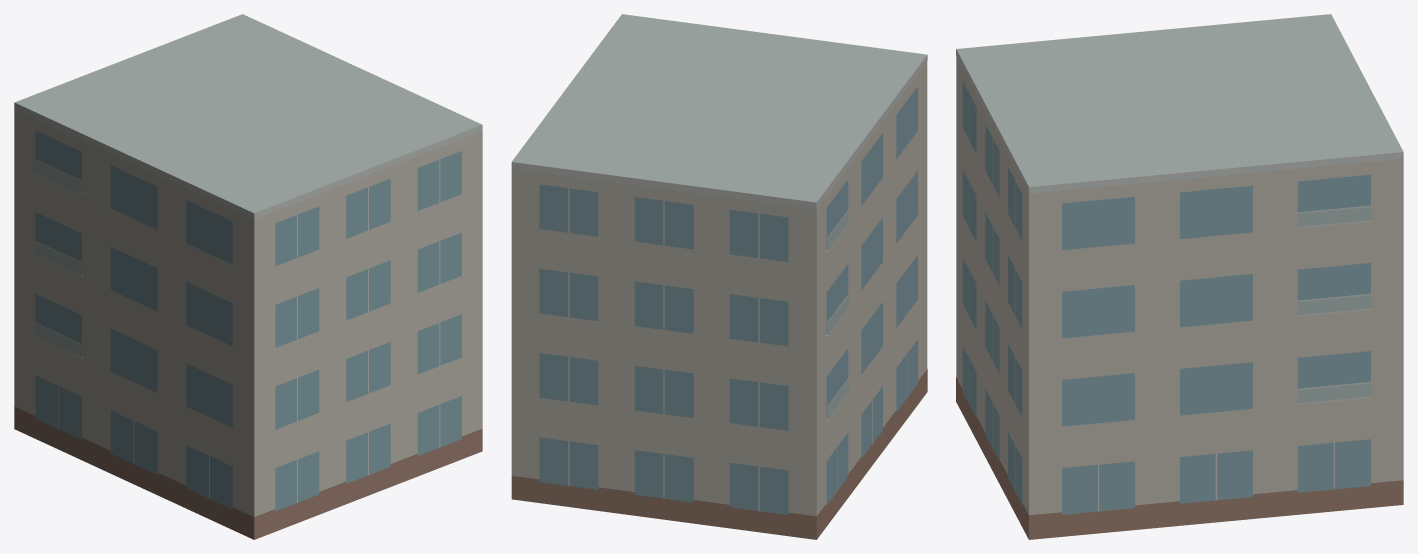
File: survey-upis-32707279.glb
3 renders of one model, left to right at view 1: azimuth 30°, elevation 25°; view 2: azimuth 150°, elevation 25°; view 3: azimuth 270°, elevation 25°, orthographic. The views are drawn at different scales.
Visible parts, largest first — view 1: survey-upis-32707279.tmp; view 2: survey-upis-32707279.tmp; view 3: survey-upis-32707279.tmp.
Boxes of the visible parts, left/top/right/bottom form: survey-upis-32707279.tmp: left=14, top=14, right=482, bottom=539; survey-upis-32707279.tmp: left=511, top=14, right=927, bottom=539; survey-upis-32707279.tmp: left=956, top=14, right=1403, bottom=539.
Size of the model in its own units: 13.37 by 12.7 by 14.61.
